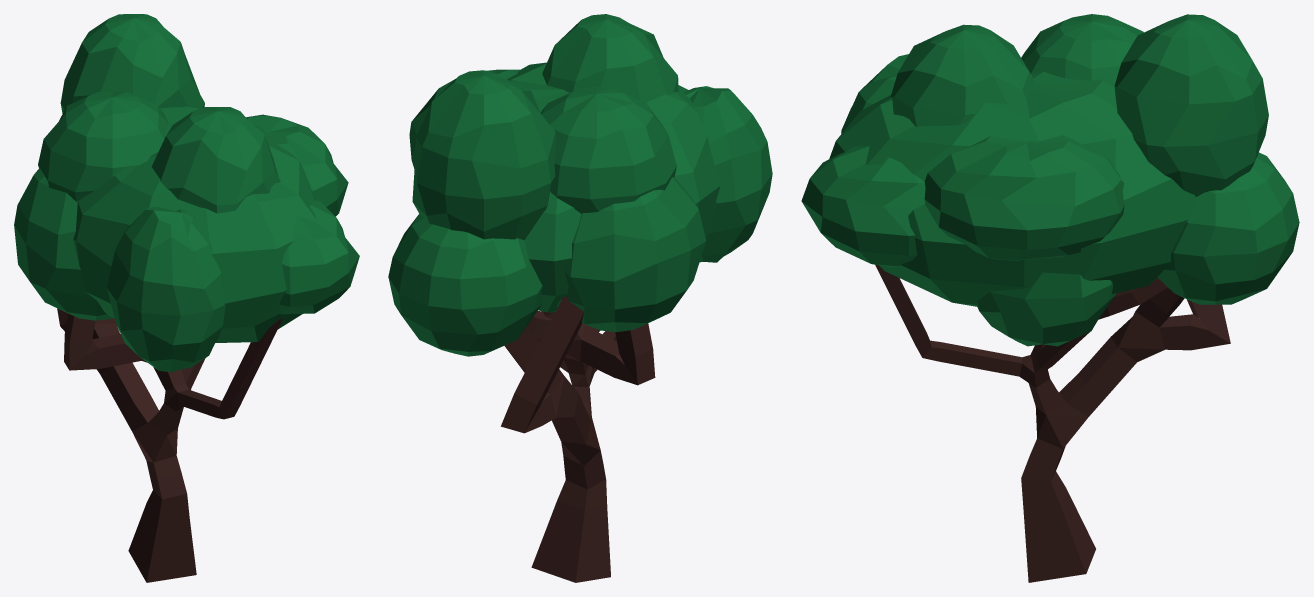
Rendered from Tree2.fbx.
The picture shows the model from 3 angles, left to right: view 1: azimuth 30°, elevation 25°; view 2: azimuth 150°, elevation 25°; view 3: azimuth 270°, elevation 25°; orthographic projection. The views are drawn at different scales.
Parts seen in each view (by area): view 1: Cube; view 2: Cube; view 3: Cube.
Part boxes in pixels (<box>): Cube: <box>14,14,359,582</box>; Cube: <box>388,14,772,582</box>; Cube: <box>801,14,1299,582</box>.
Size of the model in its own units: 1226 by 2113 by 1683.
